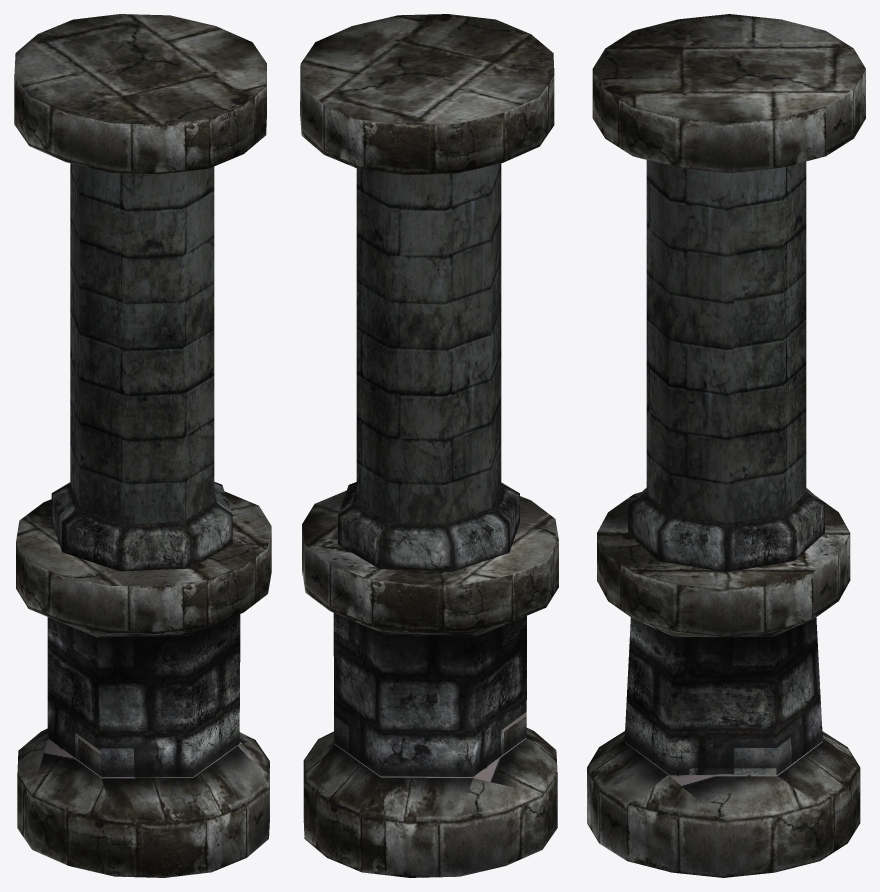
The model's file is welder_convex_alt.dae.
3 views of the same model, side by side, from view 1: azimuth 30°, elevation 25°; view 2: azimuth 150°, elevation 25°; view 3: azimuth 270°, elevation 25° (orthographic).
Parts seen in each view (by area): view 1: castlebase_welder_convex_worn; view 2: castlebase_welder_convex_worn; view 3: castlebase_welder_convex_worn.
Boxes of the visible parts, x1=… form: castlebase_welder_convex_worn: x1=14, y1=14, x2=271, y2=877; castlebase_welder_convex_worn: x1=300, y1=14, x2=558, y2=877; castlebase_welder_convex_worn: x1=587, y1=14, x2=865, y2=877.
Bounding box in the file's own units: 1.28 × 4 × 1.34.
